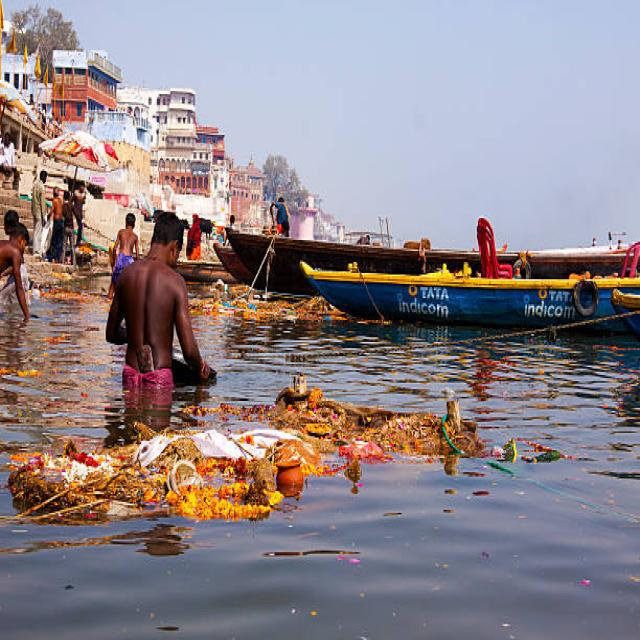trash: (32, 402, 499, 558), (192, 253, 324, 320)
